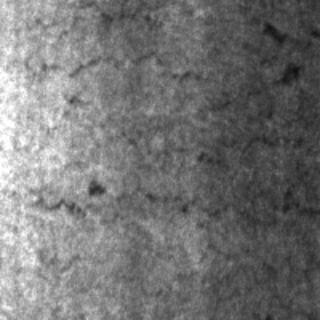crazing: (42, 50, 280, 250), (28, 13, 232, 117), (34, 242, 318, 312)
